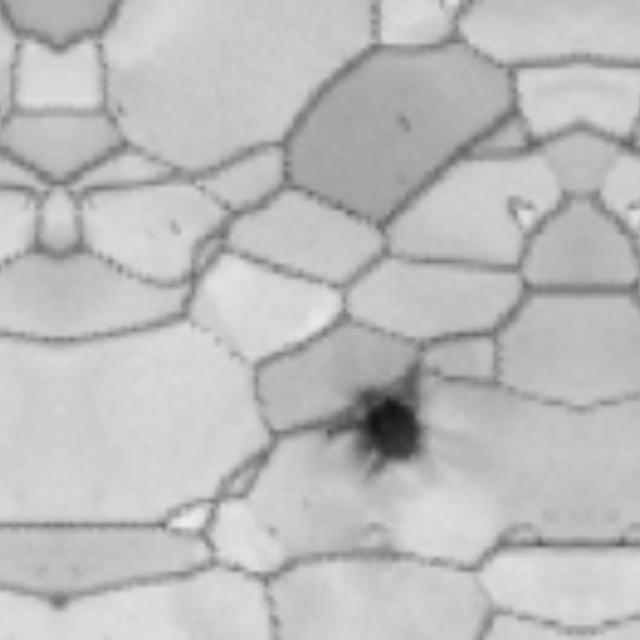good_void: (324, 375, 430, 476), (393, 111, 415, 137)
